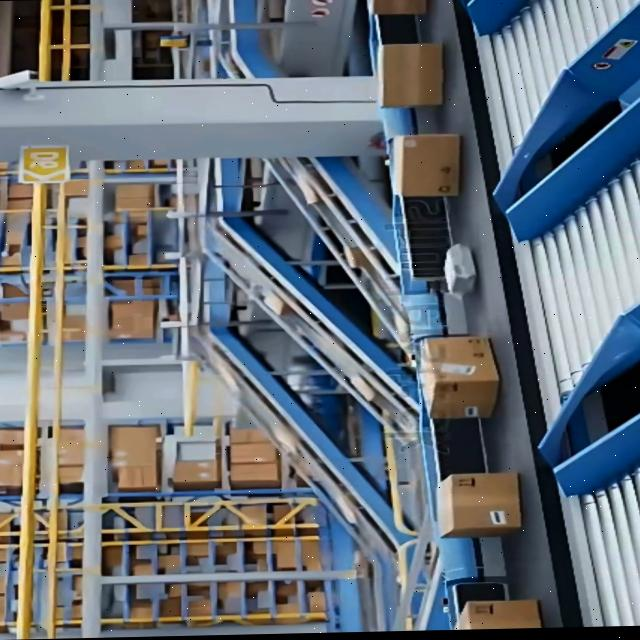product 1: (418, 334, 500, 419), (390, 132, 462, 197), (378, 64, 444, 108)
product 2: (442, 242, 477, 297)
